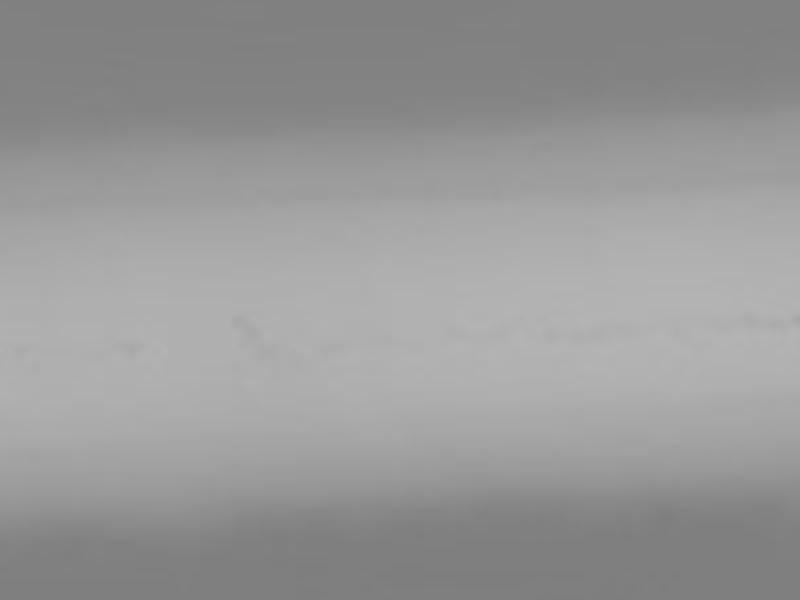defect: (226, 308, 263, 352), (740, 305, 800, 332), (440, 317, 464, 335), (542, 324, 564, 343), (123, 337, 144, 356)
